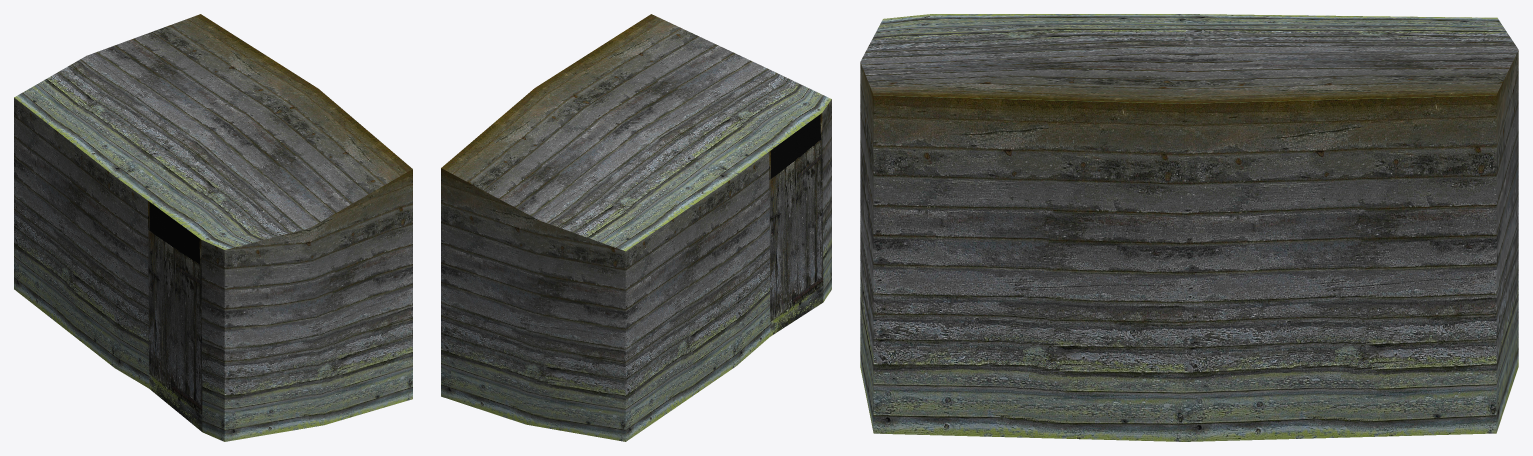
The model's file is barn01_LOD04.fbx.
The picture shows the model from 3 angles, left to right: view 1: azimuth 30°, elevation 25°; view 2: azimuth 150°, elevation 25°; view 3: azimuth 270°, elevation 25°; orthographic projection. The views are drawn at different scales.
Parts seen in each view (by area): view 1: Mesh Object; view 2: Mesh Object; view 3: Mesh Object.
Boxes of the visible parts, left/top/right/bottom form: Mesh Object: left=14, top=14, right=412, bottom=441; Mesh Object: left=441, top=14, right=831, bottom=441; Mesh Object: left=860, top=14, right=1518, bottom=441.
Bounding box in the file's own units: 1.89 × 2.04 × 3.6.
